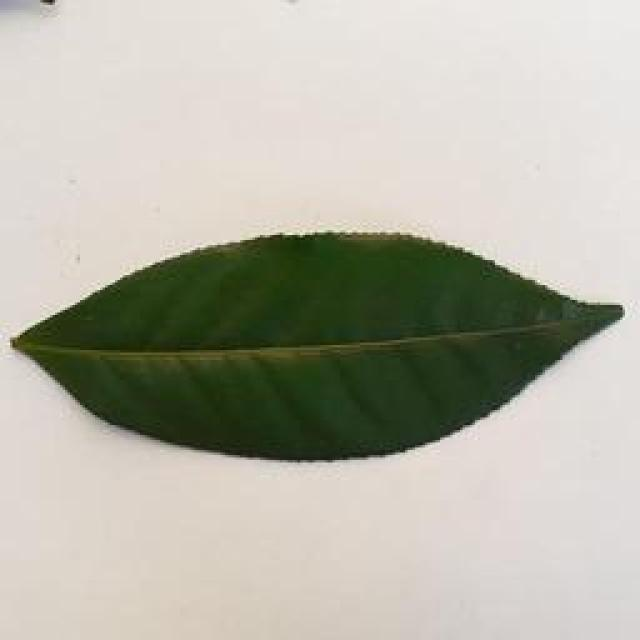Healthy: (12, 220, 633, 465)
